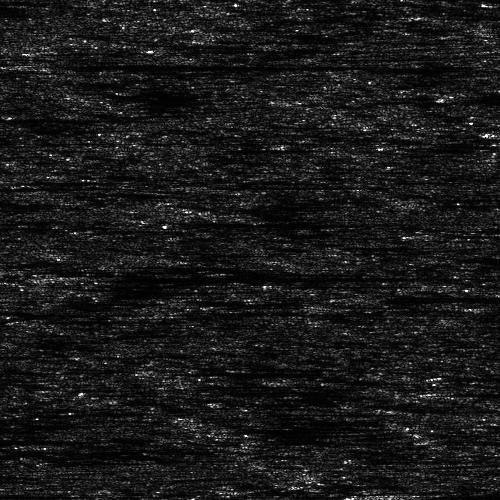rock: (383, 228, 498, 237), (133, 295, 216, 304), (420, 90, 483, 101), (377, 11, 460, 18), (122, 367, 195, 374), (344, 292, 397, 299), (436, 389, 477, 396), (30, 64, 71, 67), (490, 130, 500, 135)
shadow: (0, 443, 192, 452), (159, 367, 321, 374), (51, 64, 429, 67), (175, 295, 284, 304), (0, 436, 132, 443), (371, 292, 487, 299), (0, 214, 54, 225), (419, 11, 500, 18), (441, 228, 500, 237), (452, 90, 500, 101), (0, 183, 99, 188), (457, 389, 500, 396)
